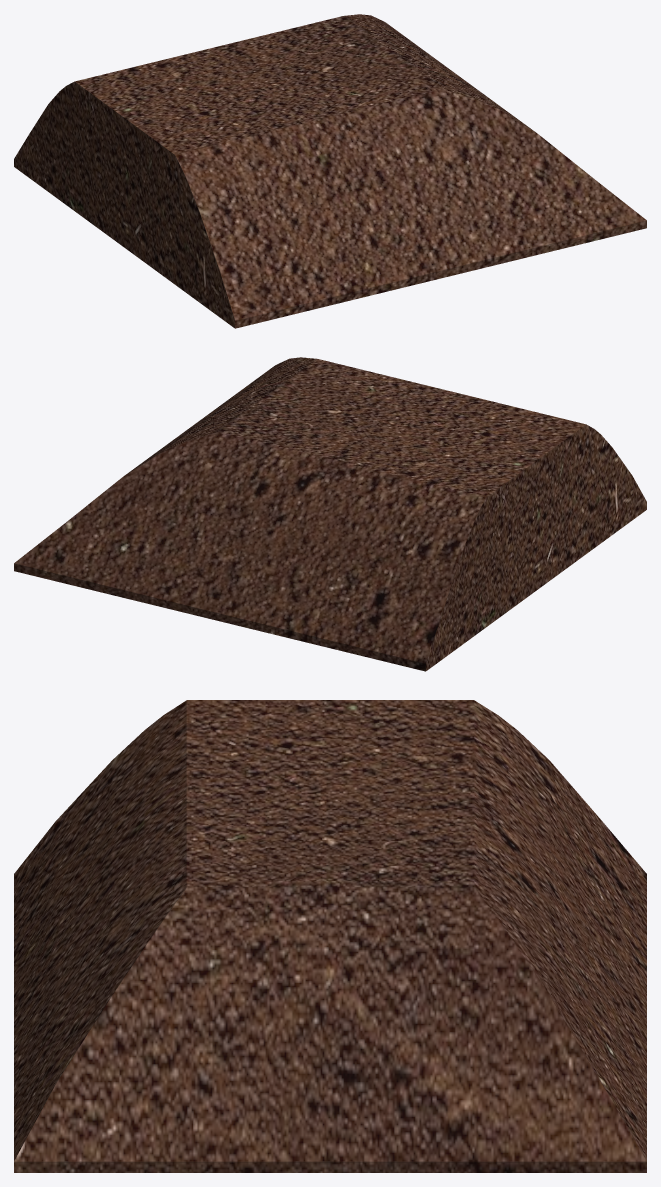
3 renders of one model, top to bottom at view 1: azimuth 30°, elevation 25°; view 2: azimuth 150°, elevation 25°; view 3: azimuth 270°, elevation 25°, orthographic. The views are drawn at different scales.
Parts seen in each view (by area): view 1: Box001; view 2: Box001; view 3: Box001.
Boxes of the visible parts, bbox=[...] form: Box001: bbox=[14, 14, 646, 328]; Box001: bbox=[14, 357, 646, 671]; Box001: bbox=[14, 700, 646, 1172].
Size of the model in its own units: 129 by 38.76 by 120.
1 material, 1 textured.
